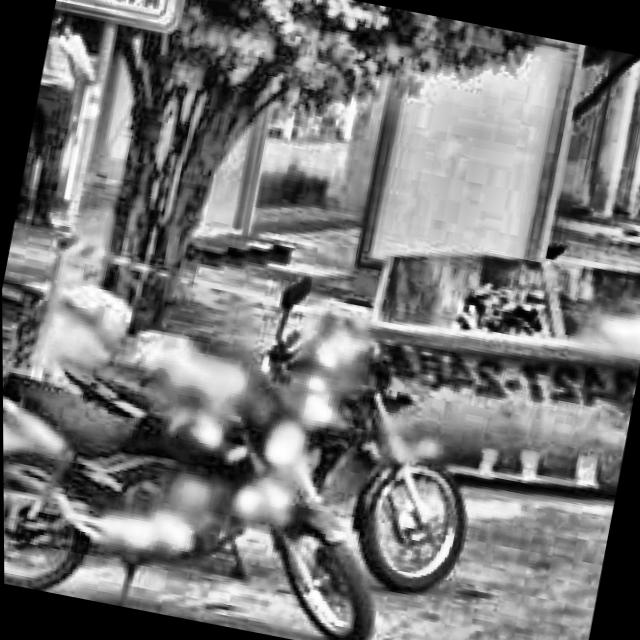motorcycle: (1, 219, 437, 640), (254, 290, 517, 604)
